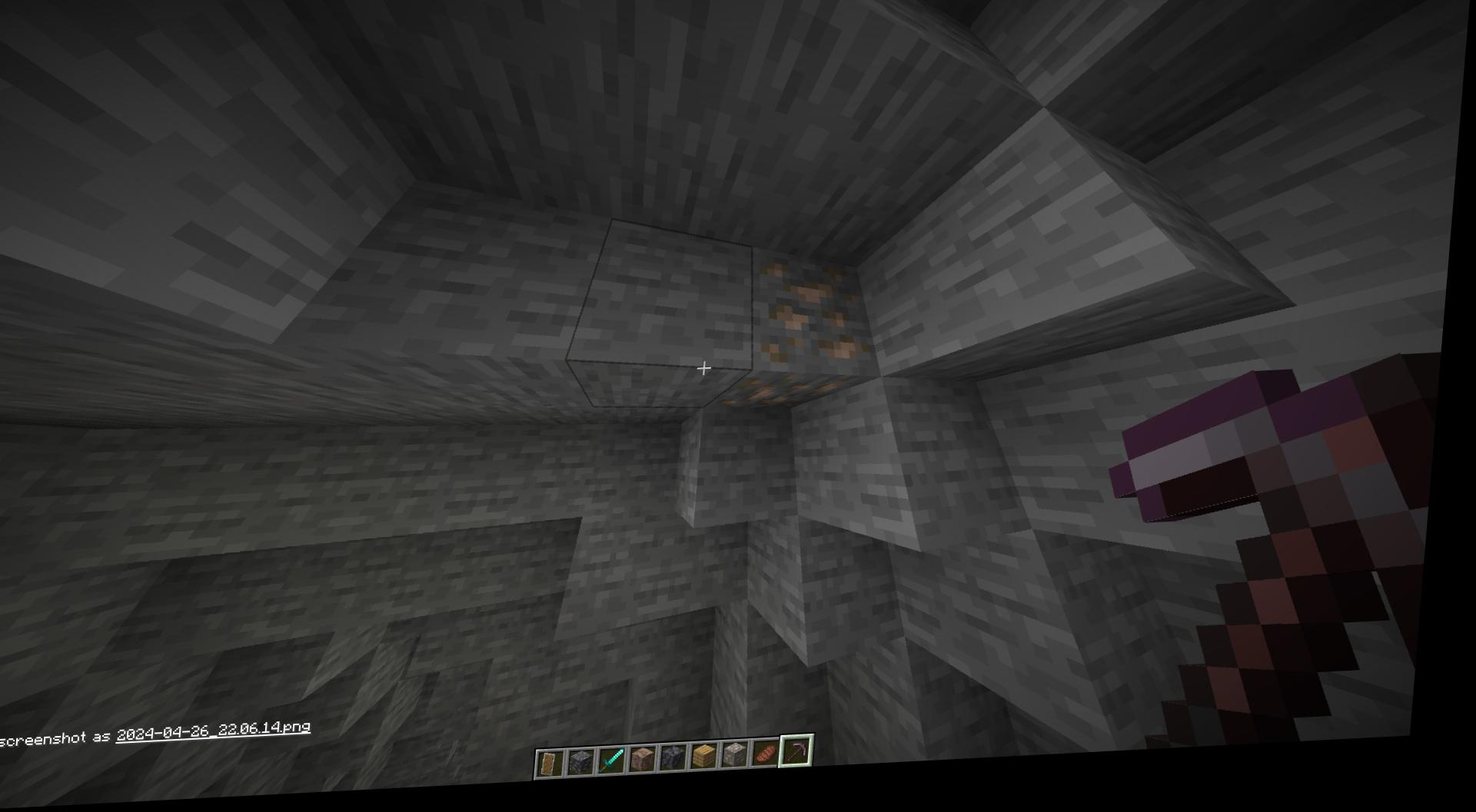iron ore: (751, 252, 875, 420)
